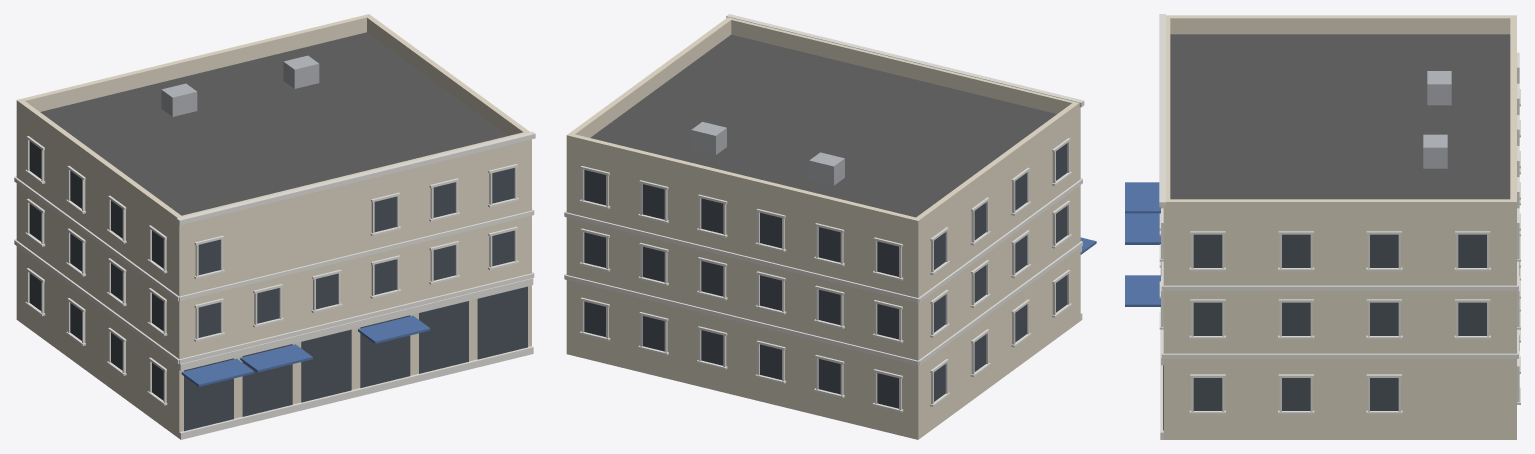
Rendered from SM_Storefront_3F_C.fbx.
3 views of the same model, side by side, from view 1: azimuth 30°, elevation 25°; view 2: azimuth 150°, elevation 25°; view 3: azimuth 270°, elevation 25° (orthographic). The views are drawn at different scales.
Parts seen in each view (by area): view 1: SM_Storefront_3F_C_LOD0; view 2: SM_Storefront_3F_C_LOD0; view 3: SM_Storefront_3F_C_LOD0.
Part boxes in pixels (<box>): SM_Storefront_3F_C_LOD0: <box>14,14,535,439</box>; SM_Storefront_3F_C_LOD0: <box>564,14,1096,439</box>; SM_Storefront_3F_C_LOD0: <box>1125,14,1520,439</box>.
Size of what is drawn, in the model's own units: 20.36 by 12.15 by 17.93.
